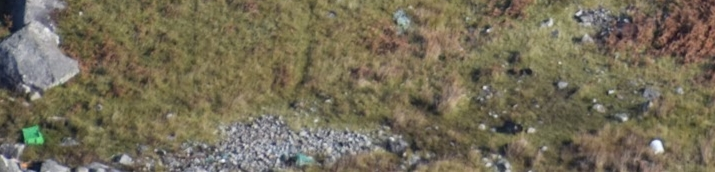white_in_green: (3, 110, 68, 167), (626, 120, 689, 171), (278, 134, 330, 172)
